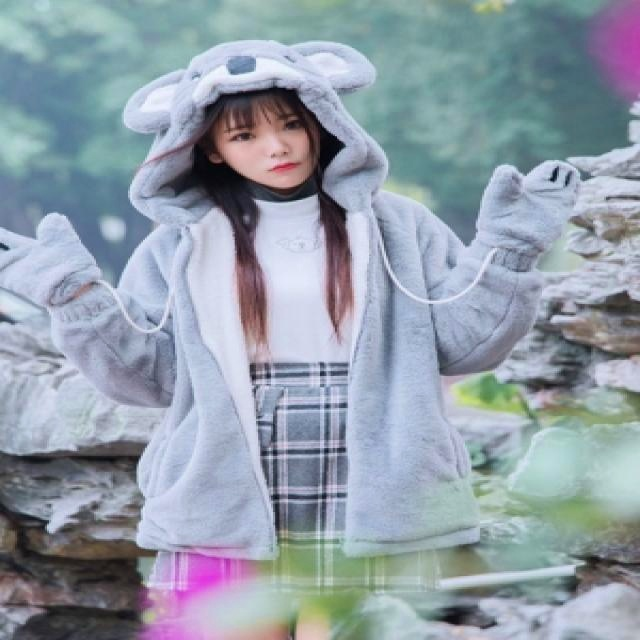Miniskirt: (142, 364, 459, 602)
